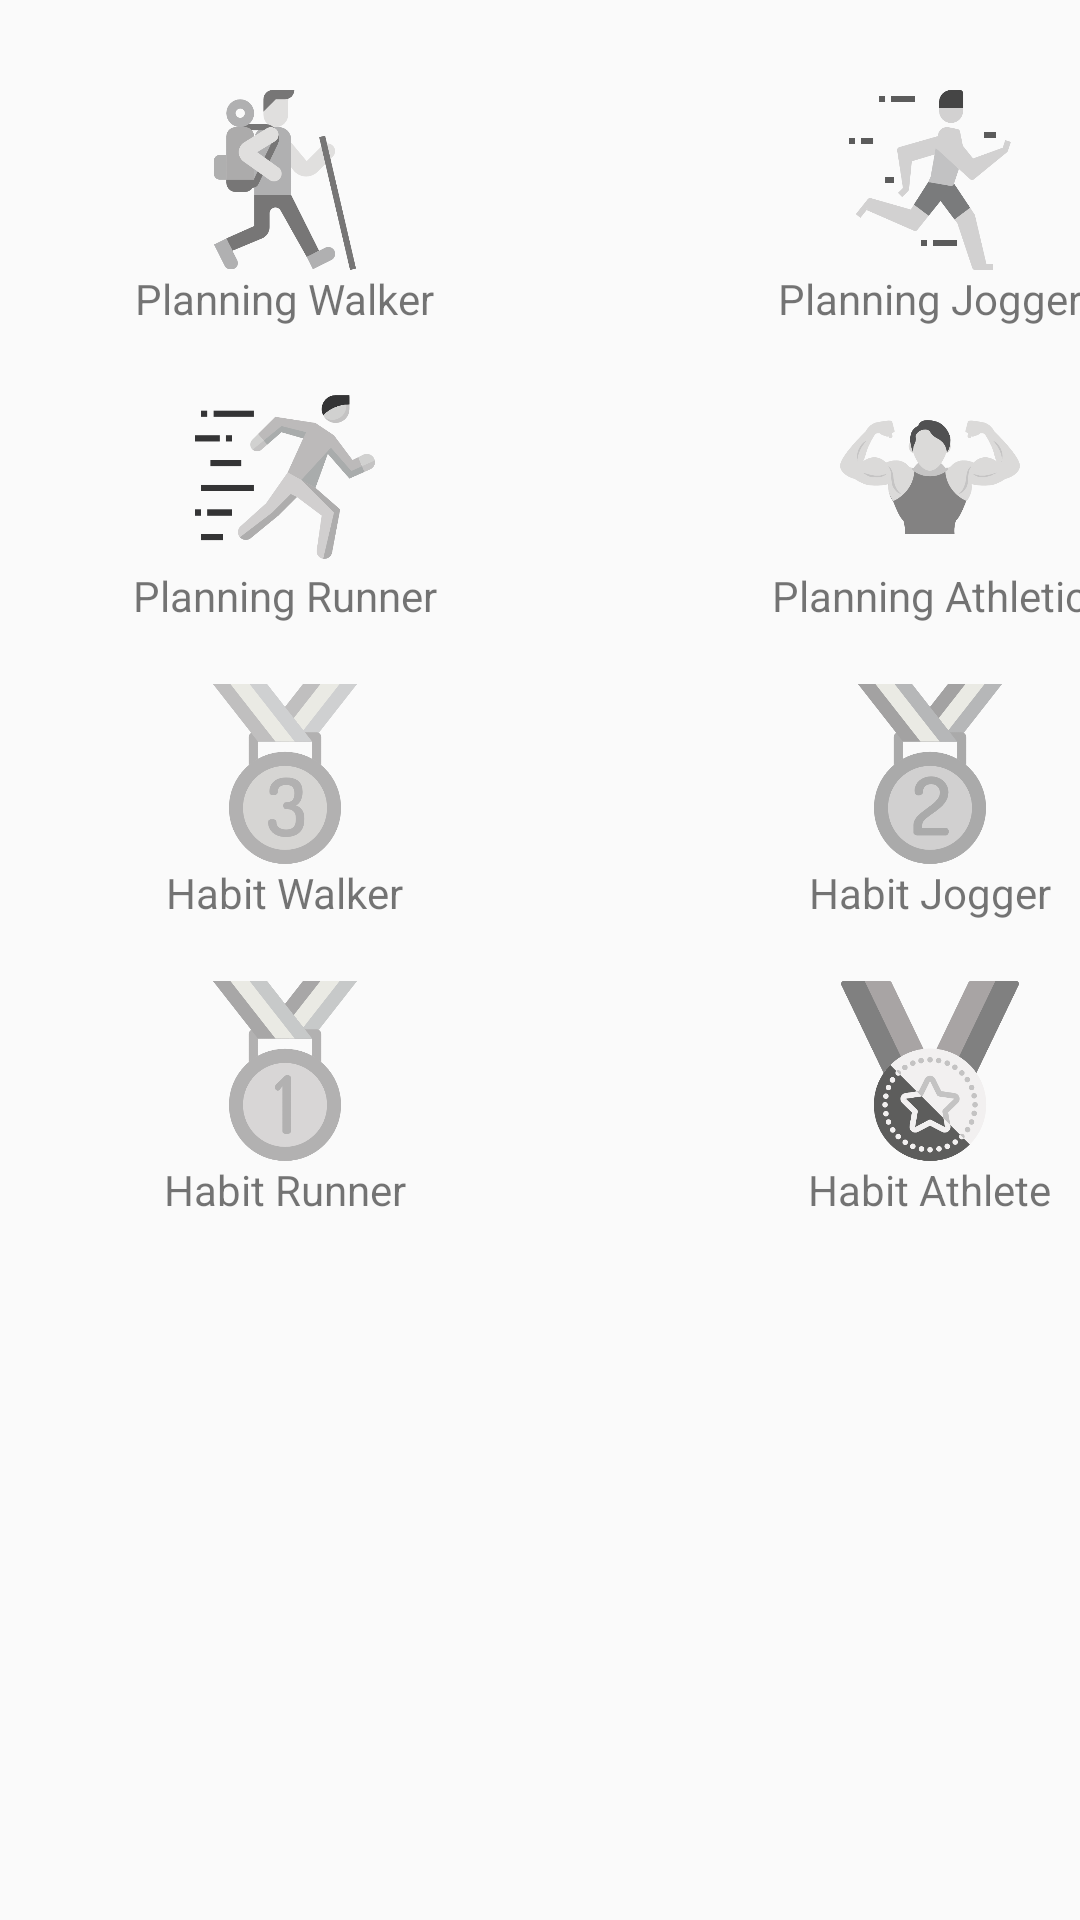

Screen size 1080 x 1920. Icon name, then its center in pixels as (x=x, y=y):
bronze: (x=285, y=774)
gold: (x=285, y=1071)
medal: (x=930, y=1071)
silver: (x=930, y=774)
